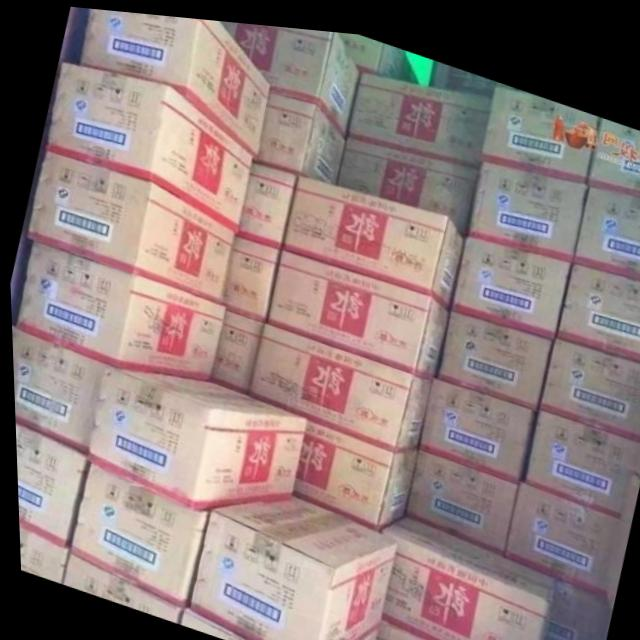box: (42, 59, 250, 227), (24, 151, 237, 301), (83, 365, 299, 507), (184, 493, 391, 640), (13, 240, 224, 377), (78, 7, 272, 154), (261, 244, 448, 372), (280, 168, 462, 299), (244, 319, 431, 444), (374, 508, 551, 640), (63, 458, 205, 606), (498, 469, 627, 589), (218, 17, 357, 128), (344, 64, 491, 160), (287, 413, 415, 522), (334, 130, 476, 228), (521, 399, 640, 511), (447, 224, 568, 326), (414, 370, 531, 475), (466, 149, 586, 250), (10, 327, 103, 455), (399, 442, 513, 544), (479, 75, 599, 171), (434, 301, 549, 401), (537, 326, 640, 430), (252, 85, 348, 179), (12, 423, 84, 548), (554, 250, 640, 351), (57, 551, 181, 620), (570, 172, 640, 267), (585, 105, 640, 183), (15, 528, 64, 582), (369, 613, 440, 640)
